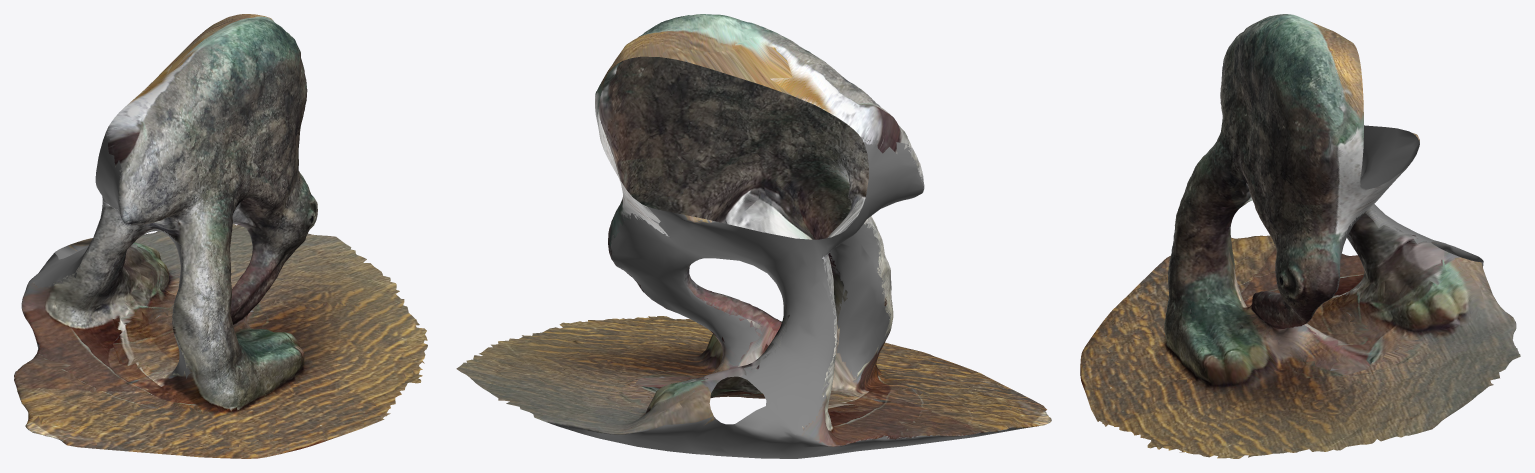
Rendered from kiekeboeBird.obj.
The picture shows the model from 3 angles, left to right: view 1: azimuth 30°, elevation 25°; view 2: azimuth 150°, elevation 25°; view 3: azimuth 270°, elevation 25°; orthographic projection. The views are drawn at different scales.
Parts seen in each view (by area): view 1: kiekeboeBird; view 2: kiekeboeBird; view 3: kiekeboeBird.
Part boxes in pixels (box(x1,y1,x2,y2)): kiekeboeBird: box(14, 14, 427, 458); kiekeboeBird: box(456, 14, 1051, 458); kiekeboeBird: box(1080, 14, 1520, 458).
Bounding box in the file's own units: 22.93 × 17.79 × 19.13.
Materials: 2 (1 with a texture image).
